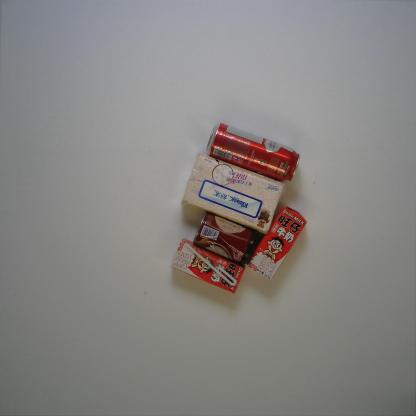Alcohol: (205, 123, 301, 182)
Canned Food: (192, 211, 257, 266)
Milk: (246, 205, 307, 281), (170, 238, 246, 294)
Tissue: (181, 152, 286, 235)
